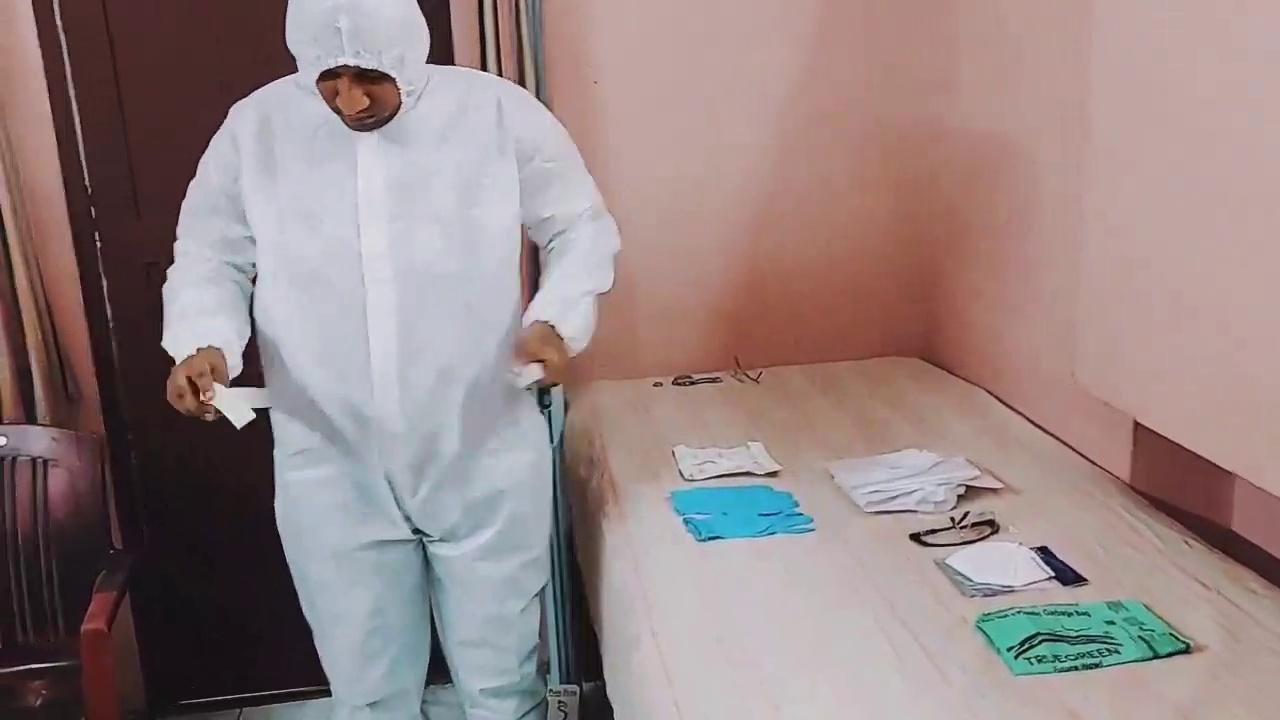Gloves Off: (168, 348, 228, 419), (512, 320, 570, 384)
Mask Off: (318, 70, 398, 131)
Suit On: (162, 68, 618, 718)
